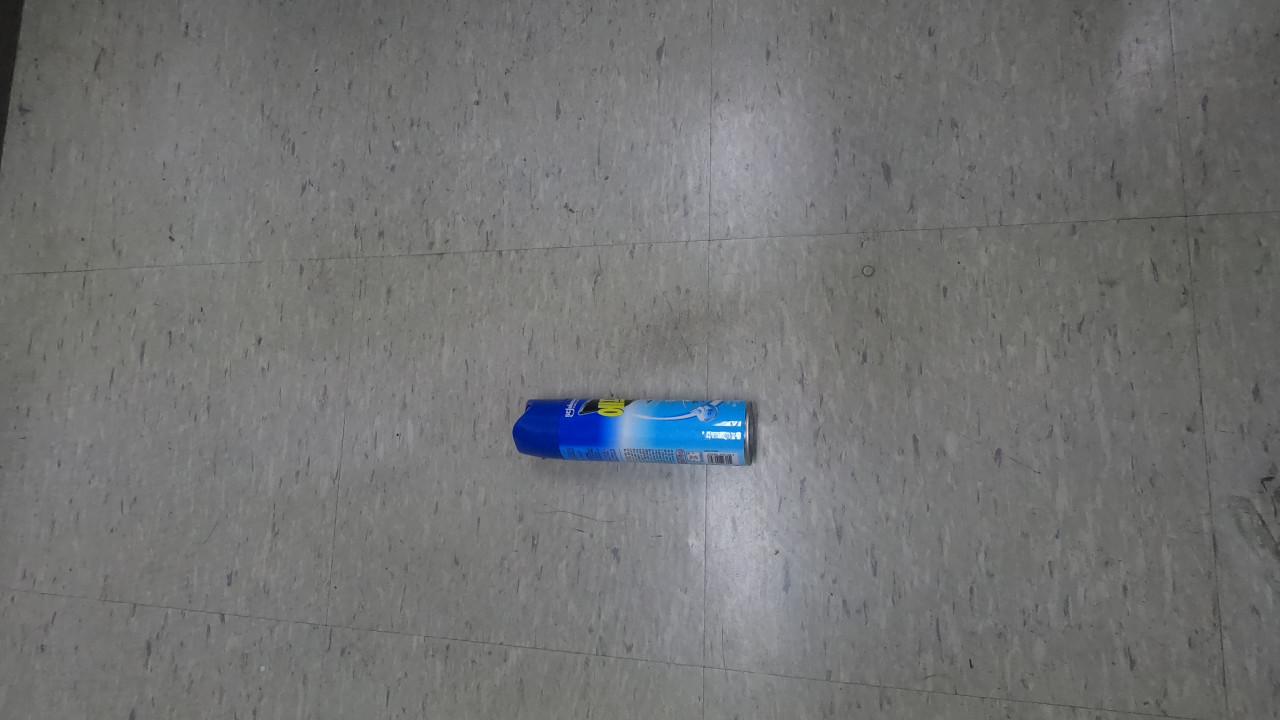c_3: (511, 381, 783, 481)
